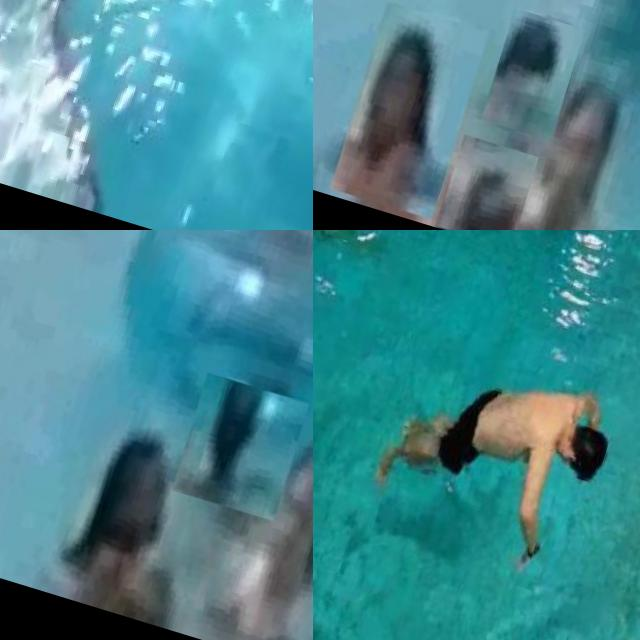drowning: (357, 328, 630, 580), (170, 372, 308, 522), (480, 8, 584, 142)
swimming: (35, 414, 206, 624), (327, 2, 488, 222), (197, 430, 313, 640), (522, 68, 640, 230), (435, 133, 539, 230)
